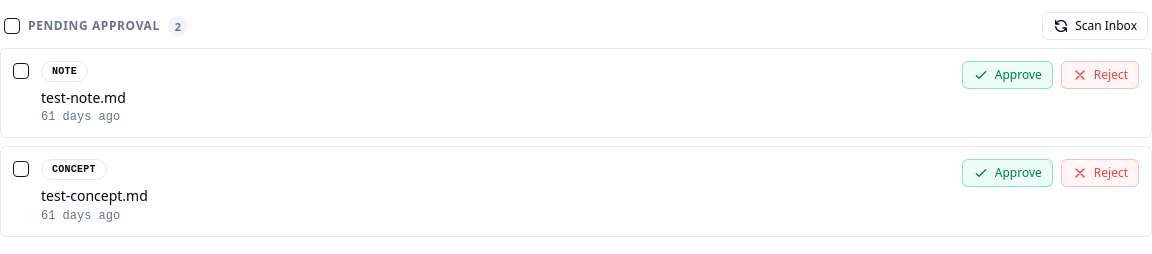
Test: PendingApprovalPanel › select-all checkbox marks all per-item checkboxes as checked
Click the checkbox named "select all pending items" at (12, 26), box [4,18,20,34]
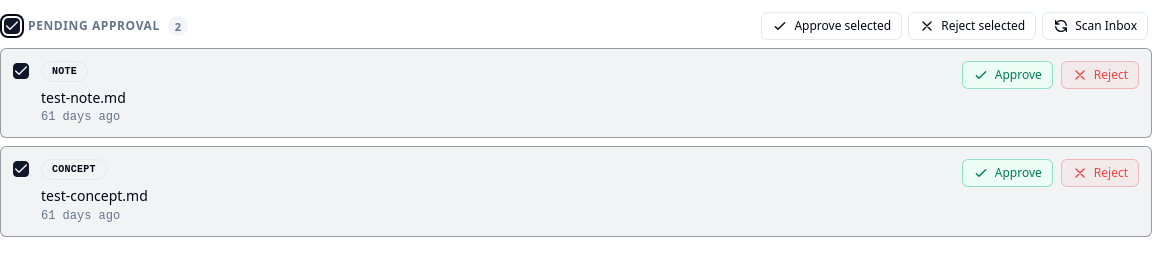
Expected: the number of checkboxes named "Select test-note.md" is 2, [13,63,29,79]; [13,161,29,177]
Expected: the checkbox named "Select test-note.md" is checked, [13,63,29,79]
Expected: the checkbox named "Select test-concept.md" is checked, [13,161,29,177]
